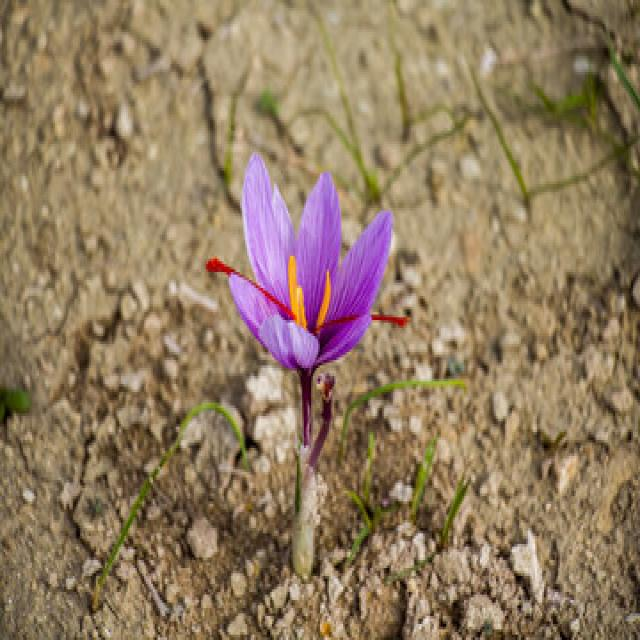saffron open: (208, 156, 406, 578)
